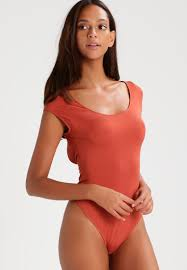person: (23, 1, 167, 269)
